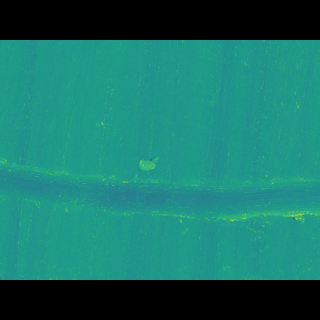Loch: (0, 156, 320, 207), (134, 156, 164, 169)
